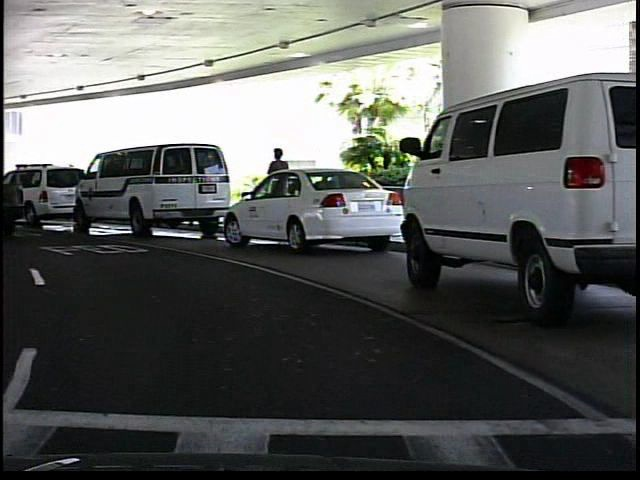person: (263, 144, 292, 228)
